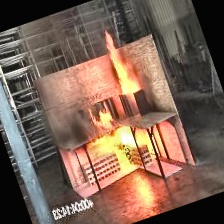fire: (83, 100, 161, 179), (88, 20, 154, 110)
